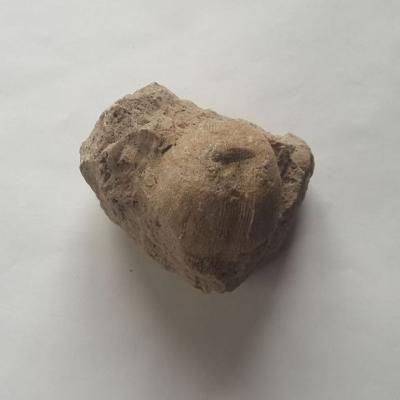natural_science_collection: (79, 83, 314, 295)
